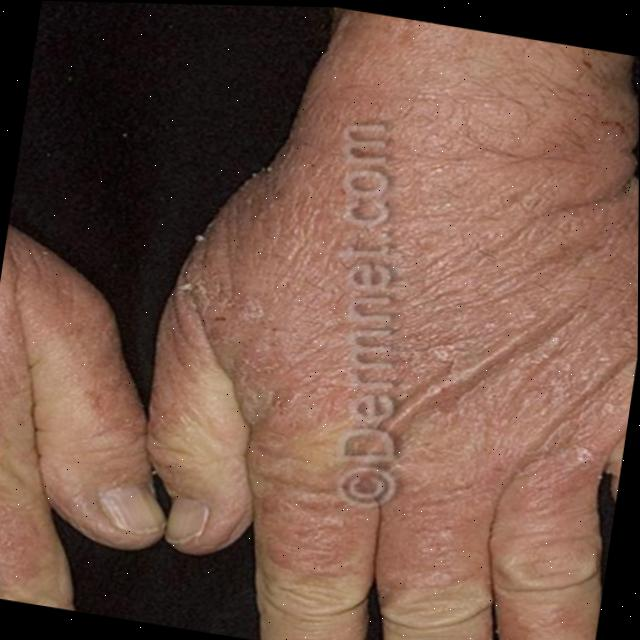Eczema: (254, 147, 639, 590)
